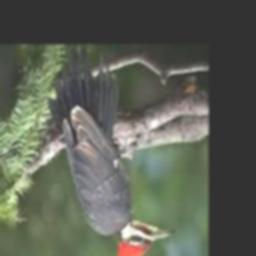Woodpecker: (49, 45, 173, 256)
